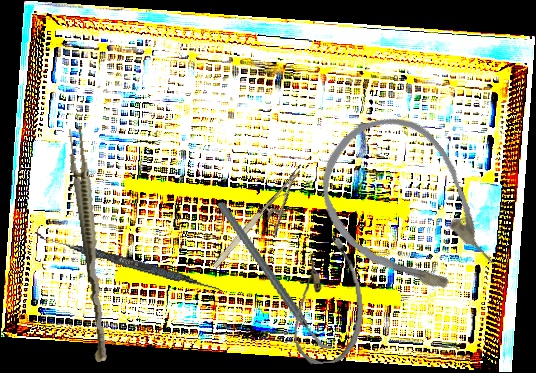Cannula: (294, 93, 522, 328), (285, 236, 368, 366)
Chopper: (217, 185, 335, 369)
Needle Holder: (209, 167, 320, 284)
Spatula Surgical: (31, 231, 225, 294)
Tissue Forceps: (62, 126, 117, 363)
